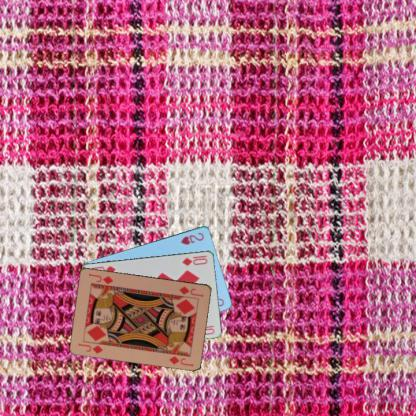10d: (180, 255, 209, 267)
2h: (179, 230, 205, 246)
Jd: (76, 341, 104, 355), (177, 284, 204, 298)
